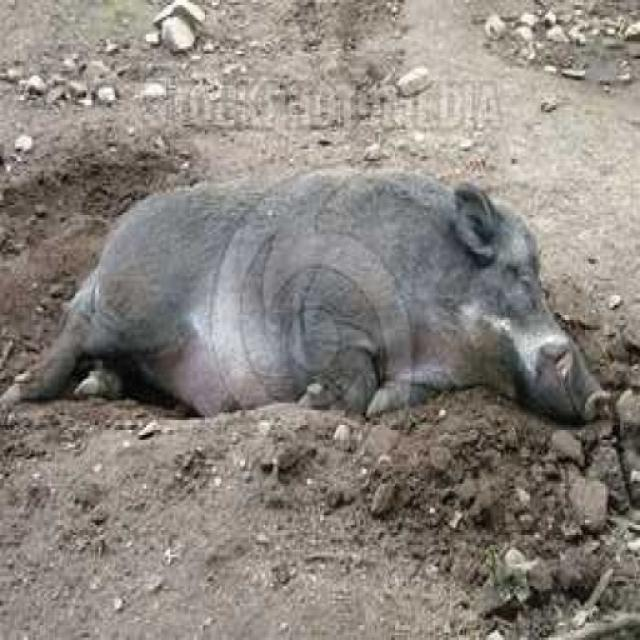pig: (42, 128, 618, 472)
